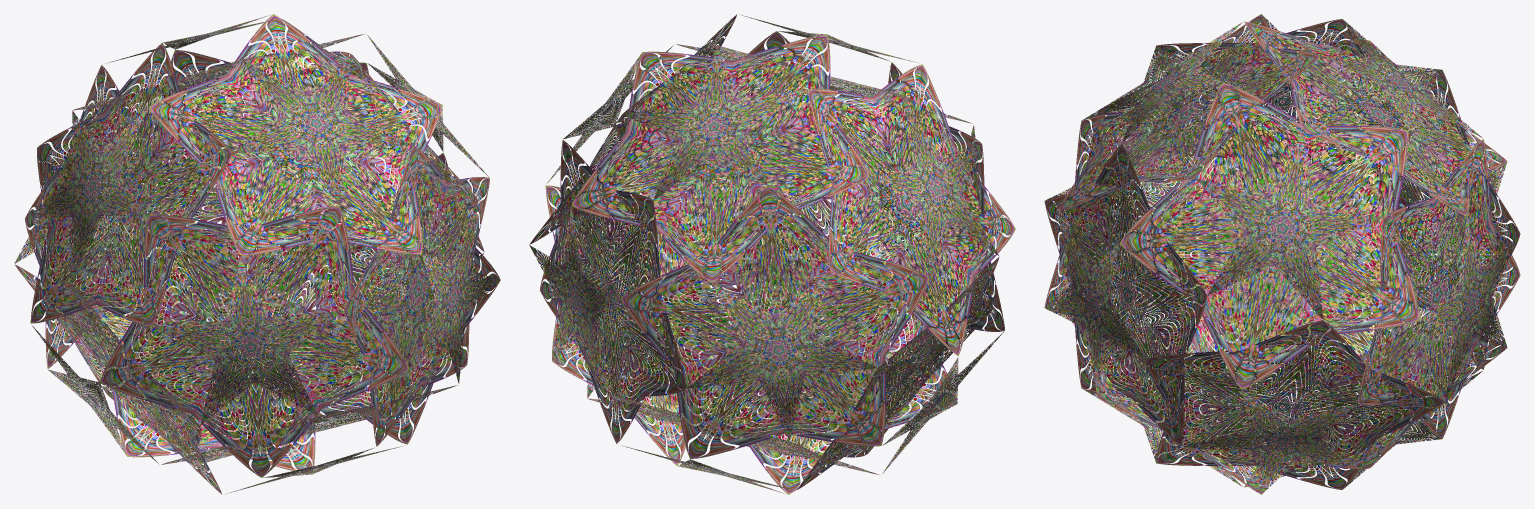
The model's file is 10SnubDodecadodecahedron.gltf.
3 views of the same model, side by side, from view 1: azimuth 30°, elevation 25°; view 2: azimuth 150°, elevation 25°; view 3: azimuth 270°, elevation 25° (orthographic).
Parts seen in each view (by area): view 1: 7SnubDodecadodecahedron; view 2: 7SnubDodecadodecahedron; view 3: 7SnubDodecadodecahedron.
Boxes of the visible parts, <box> form: 7SnubDodecadodecahedron: <box>14,14,500,494</box>; 7SnubDodecadodecahedron: <box>529,14,1015,494</box>; 7SnubDodecadodecahedron: <box>1044,14,1520,494</box>.
Size of the model in its own units: 2.48 by 2.48 by 2.48.
1 material, 1 textured.
